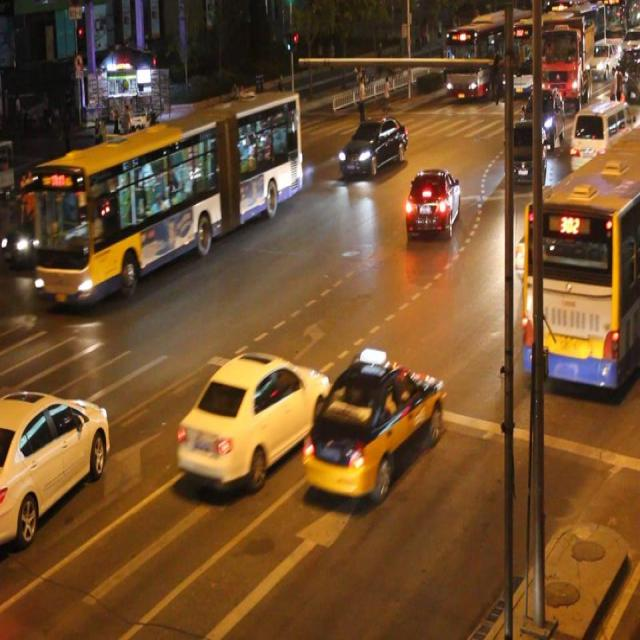car: (176, 352, 329, 484), (301, 358, 442, 494), (1, 387, 110, 536), (1, 190, 85, 270), (337, 116, 408, 176), (404, 164, 460, 239), (503, 120, 544, 186)
truck: (570, 98, 632, 176)
van: (33, 95, 300, 295), (526, 144, 640, 388)
